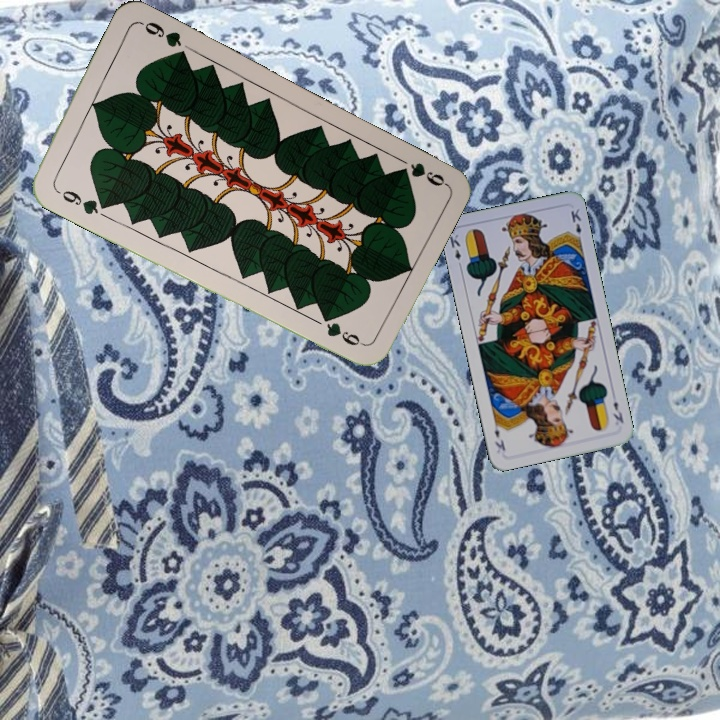EK: (445, 230, 465, 271), (609, 397, 626, 426)
G9: (51, 184, 109, 218), (406, 158, 448, 189)
